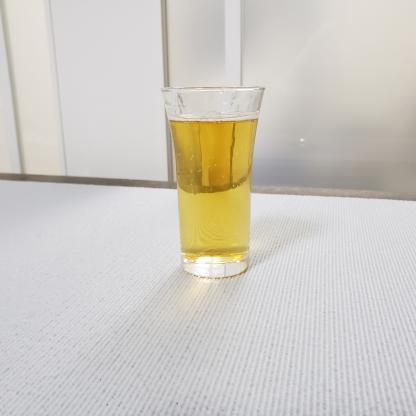glass: (148, 74, 277, 296)
